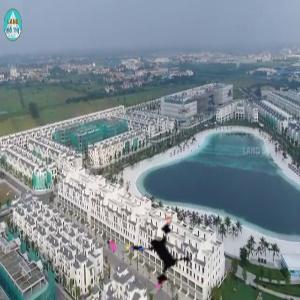drone: (107, 208, 198, 299)
